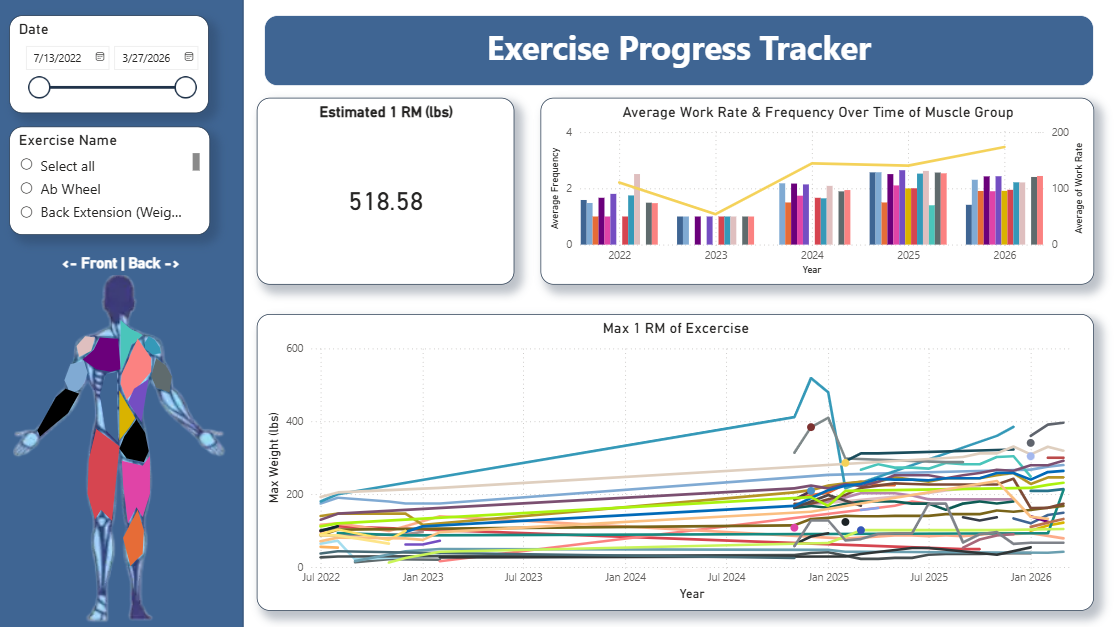

The dashboard page shown, as its layout file describes it:
{"tool":"powerbi","page":{"name":"Page 1","canvas":[1280,720],"ordinal":0},"visuals":[{"type":"shape","box":[0,0,280.6,719.4],"z":0},{"type":"lineChart","title":"Max 1 RM of Excercise","fields":{"Series":["clean1.exercise_name"],"Category":["clean1.date.Variation.Date Hierarchy.Year","clean1.date.Variation.Date Hierarchy.Month"],"Y":["Max(clean1.max_1RM)"]},"box":[295.5,359.7,956.7,338.8],"z":1000},{"type":"synopticPanelByOKVIZC365478550CD4DC0A2ED985DC3E23EED","title":"<- Front | Back ->","fields":{"category_role":["Human Anatomy (2).Muscle Name"],"legend_role":["clean1.muscle_group"]},"box":[0,291,280.6,428.4],"z":2000},{"type":"slicer","title":"Date","fields":{"Values":["clean1.date"]},"box":[13.4,17.9,228.4,111.9],"z":3000},{"type":"listSlicer","title":"Exercise Name","fields":{"Values":["clean1.exercise_name"]},"box":[13.4,146.3,229.9,123.9],"z":4000},{"type":"lineClusteredColumnComboChart","title":"Average Work Rate & Frequency Over Time of Muscle Group","fields":{"Y":["Avg(clean1.frequency)"],"Y2":["Avg(clean1.work_rate)"],"Series":["clean1.muscle_group"],"Category":["clean1.date.Variation.Date Hierarchy.Year"]},"box":[619.4,113.4,632.8,213.4],"z":5000},{"type":"card","title":"Estimated 1 RM (lbs)","fields":{"Values":["Max(clean1.max_1RM)"]},"box":[295.5,113.4,294,213.4],"z":6000},{"type":"textbox","box":[304.5,17.9,947.8,80.6],"z":6001}]}

Visuals, with their boxes in screenshot pixels (x1, y1, x2, y2), scaled from the page's 1280x720 canvas onto the 1114x627 screenshot:
shape: [x1=0, y1=0, x2=244, y2=626]
"Max 1 RM of Excercise" lineChart: [x1=257, y1=313, x2=1090, y2=608]
"<- Front | Back ->" synopticPanelByOKVIZC365478550CD4DC0A2ED985DC3E23EED: [x1=0, y1=253, x2=244, y2=626]
"Date" slicer: [x1=12, y1=16, x2=210, y2=113]
"Exercise Name" listSlicer: [x1=12, y1=127, x2=212, y2=235]
"Average Work Rate & Frequency Over Time of Muscle Group" lineClusteredColumnComboChart: [x1=539, y1=99, x2=1090, y2=285]
"Estimated 1 RM (lbs)" card: [x1=257, y1=99, x2=513, y2=285]
textbox: [x1=265, y1=16, x2=1090, y2=86]
